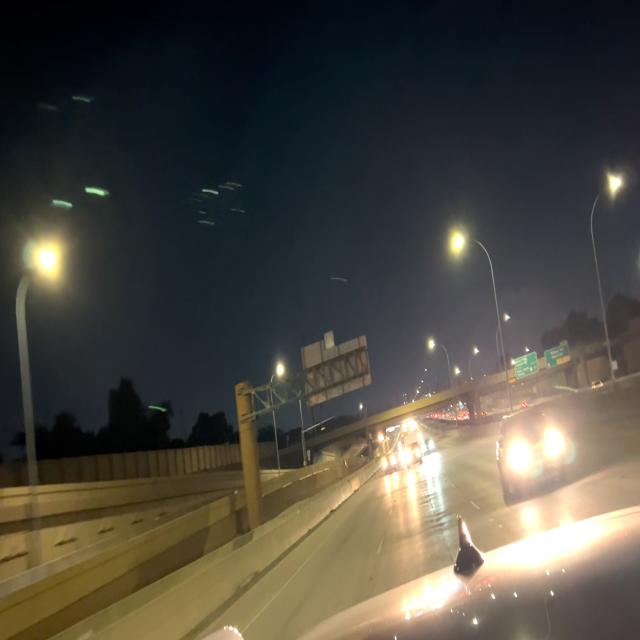back-of-sign: (299, 326, 373, 407)
